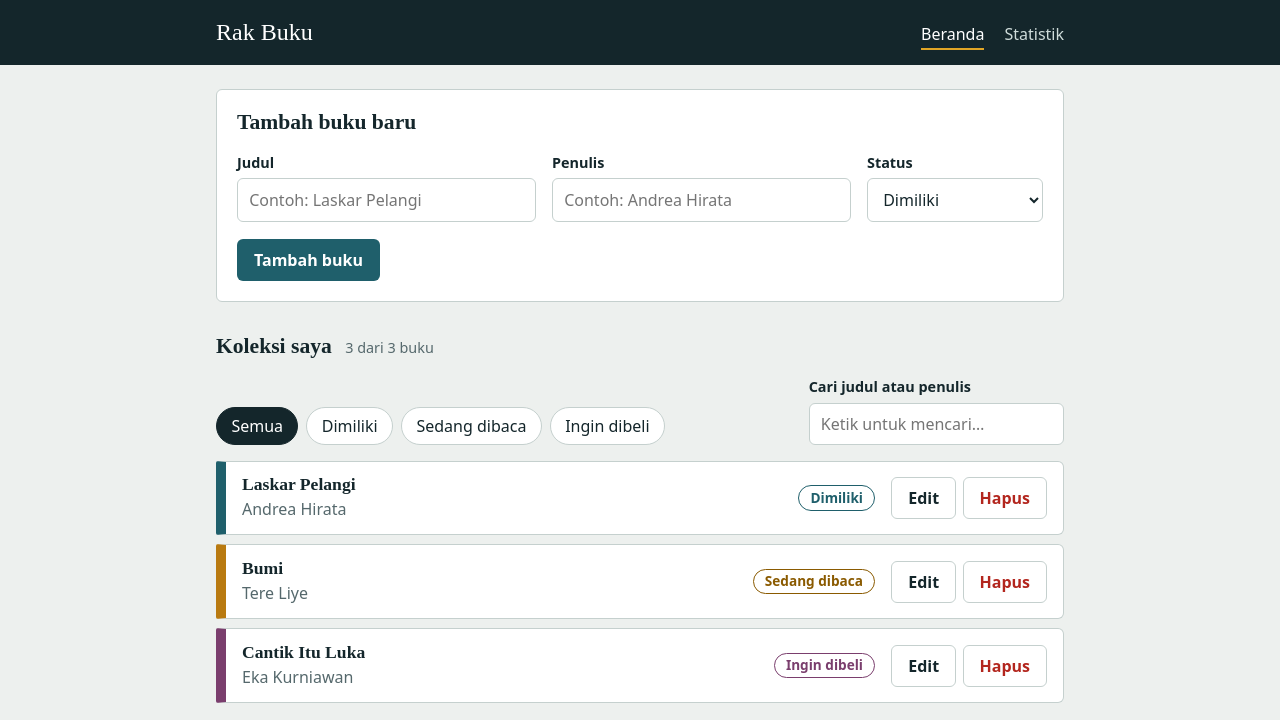
Test: Aplikasi Manajemen Buku (integrasi) › berpindah halaman lewat navigasi
The image size is (1280, 720).
Step 1. Click the link "Statistik" → coordinates (1034, 36), box [1004, 22, 1064, 50]
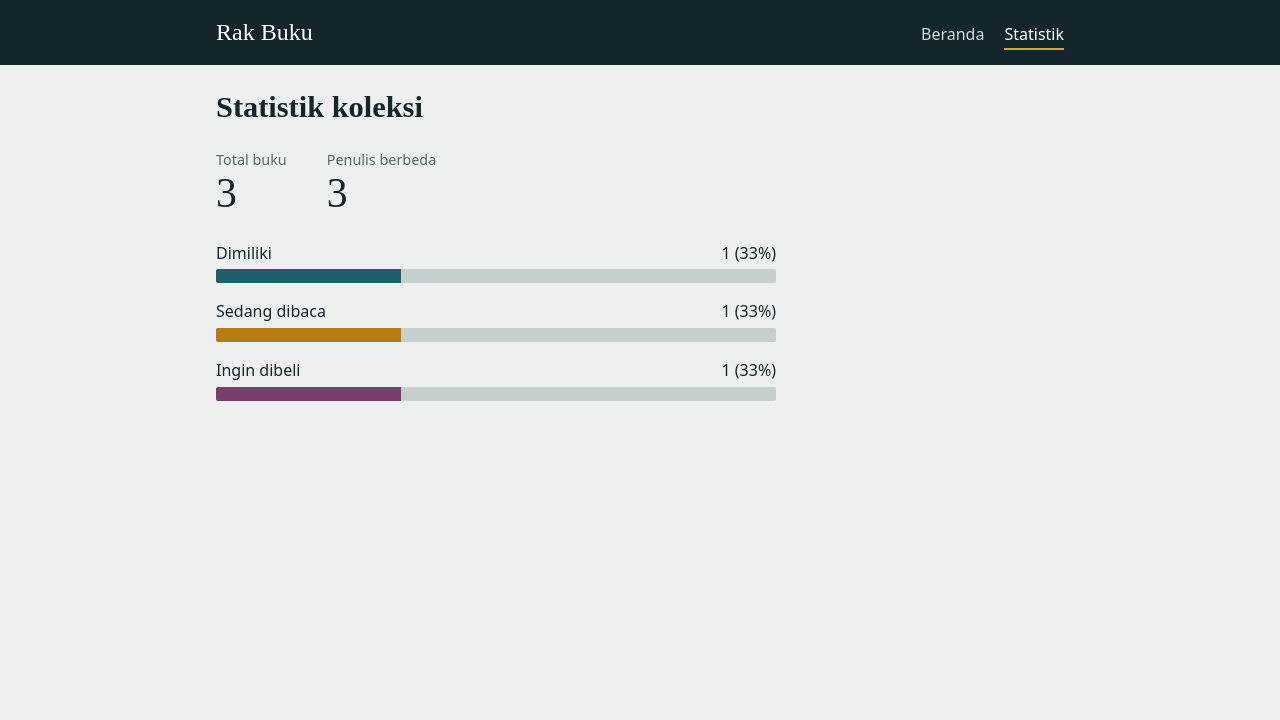
Expected: the heading "Statistik koleksi" is shown, [216, 90, 423, 124]
